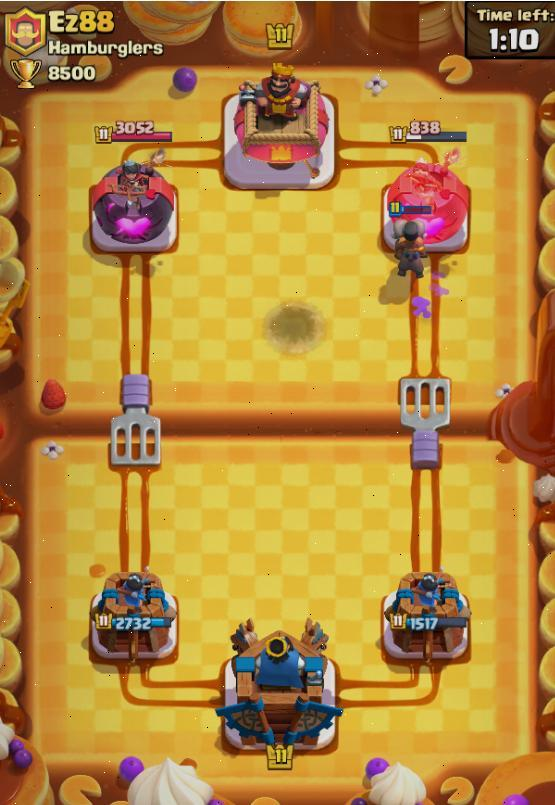EKingTower: (223, 77, 335, 190)
EnemyPrincessTower: (382, 160, 469, 253), (90, 160, 177, 253)
ORamrider: (395, 219, 426, 278)
OwnKingTower: (216, 619, 341, 750)
OwnPrincessTower: (90, 568, 176, 661), (383, 572, 470, 662)
